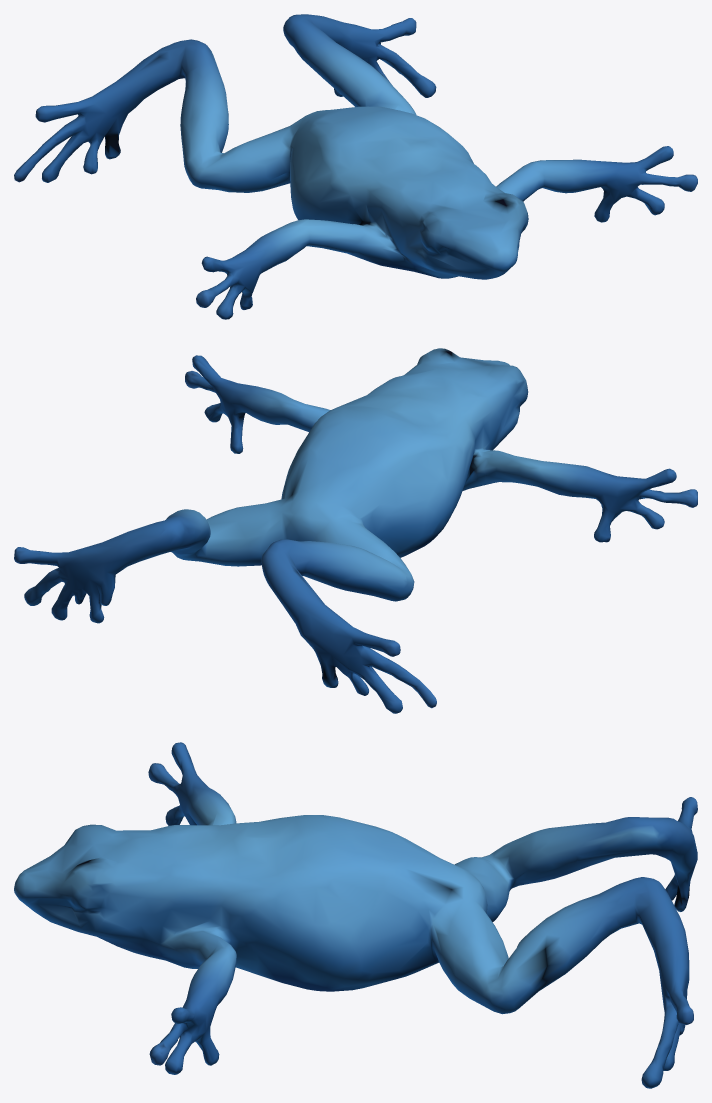
The model's file is dartfrog-sky_clean.swim.lo.glb.
3 renders of one model, top to bottom at view 1: azimuth 30°, elevation 25°; view 2: azimuth 150°, elevation 25°; view 3: azimuth 270°, elevation 25°, orthographic. The views are drawn at different scales.
Parts seen in each view (by area): view 1: dartfrog:sky_clean.swim; view 2: dartfrog:sky_clean.swim; view 3: dartfrog:sky_clean.swim.
Boxes of the visible parts, <box> form: dartfrog:sky_clean.swim: <box>14,14,697,319</box>; dartfrog:sky_clean.swim: <box>14,348,697,713</box>; dartfrog:sky_clean.swim: <box>14,742,697,1088</box>.
Size of the model in its own units: 0.0612 by 0.0153 by 0.0616.
